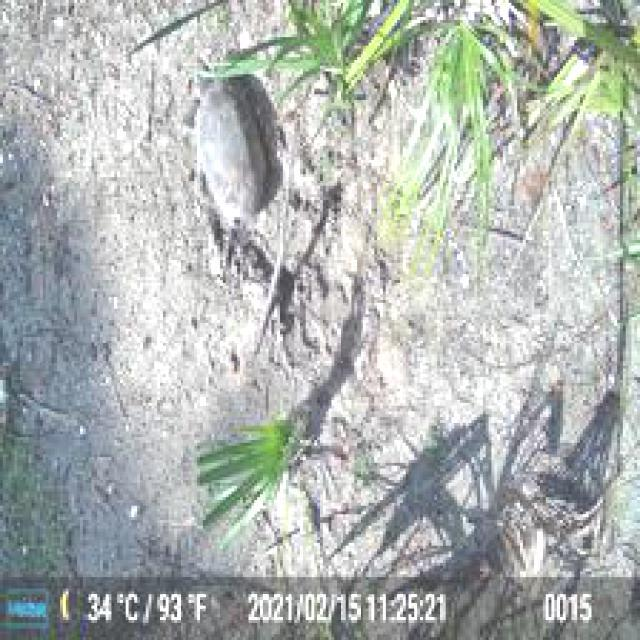tortoise: (183, 71, 269, 225)
